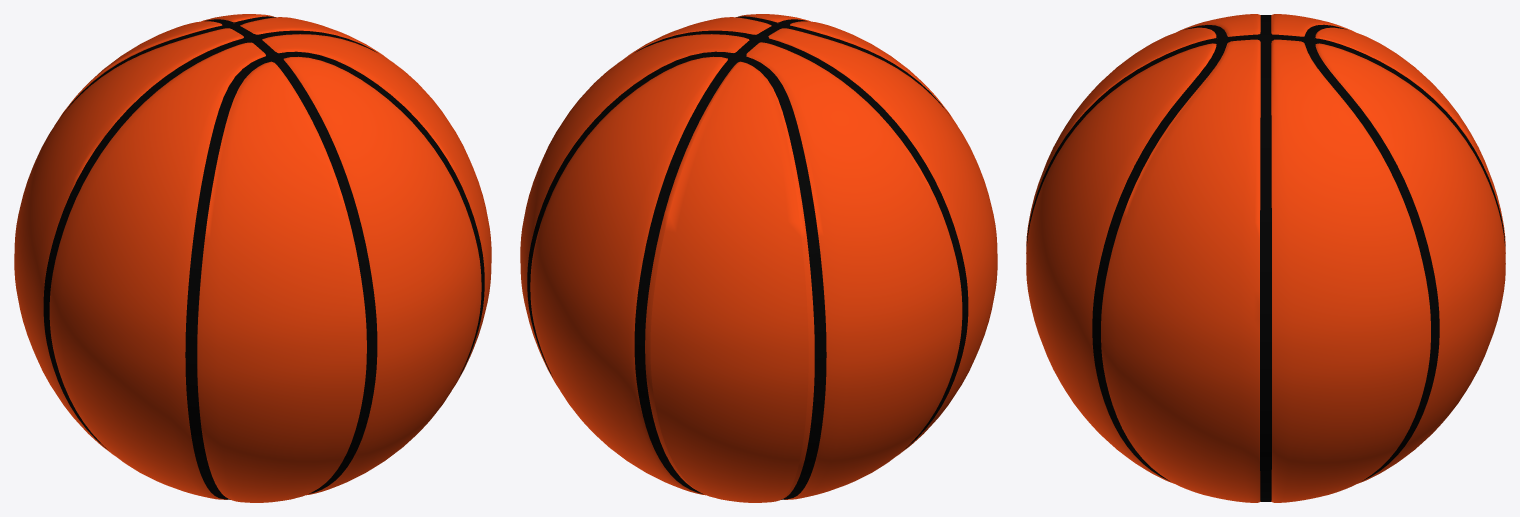
3 renders of one model, left to right at view 1: azimuth 30°, elevation 25°; view 2: azimuth 150°, elevation 25°; view 3: azimuth 270°, elevation 25°, orthographic.
Parts seen in each view (by area): view 1: Ball VR; view 2: Ball VR; view 3: Ball VR.
Part boxes in pixels (bbox=[...]): Ball VR: bbox=[14, 14, 491, 502]; Ball VR: bbox=[520, 14, 997, 502]; Ball VR: bbox=[1026, 14, 1505, 502].
Bounding box in the file's own units: 191 × 196 × 191.
